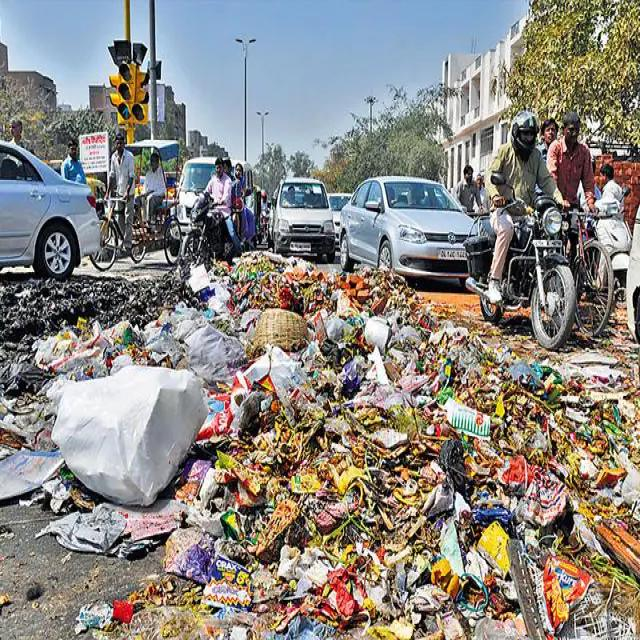garbage: (0, 219, 640, 640)
